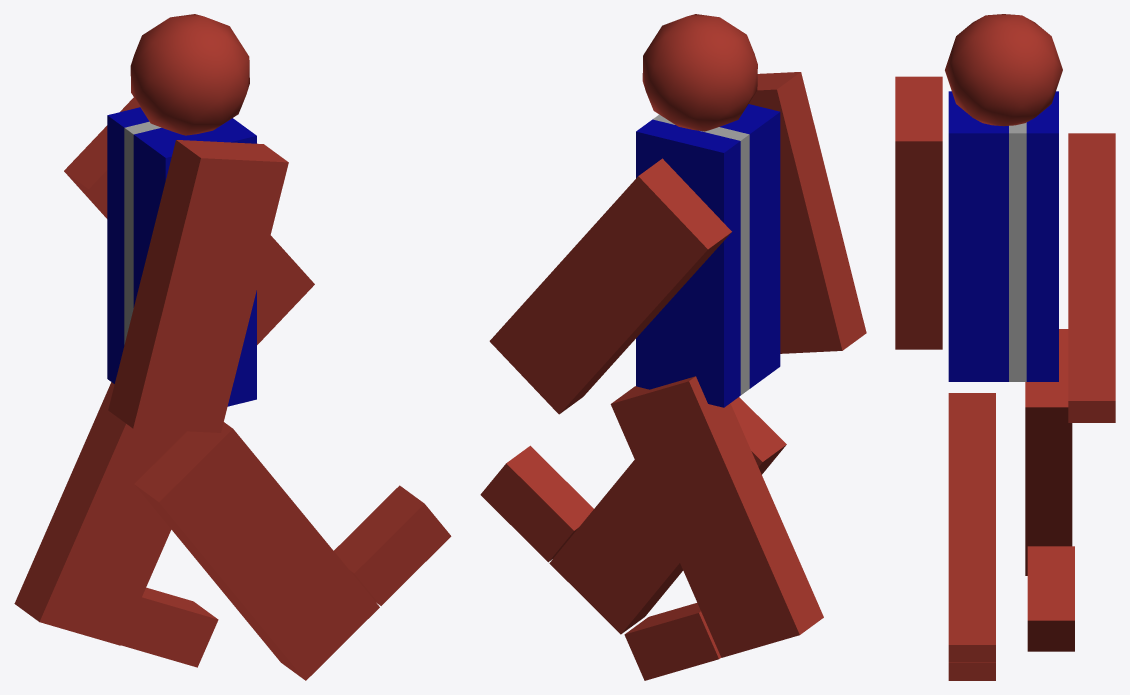
File: player_000024.obj
3 views of the same model, side by side, from view 1: azimuth 30°, elevation 25°; view 2: azimuth 150°, elevation 25°; view 3: azimuth 270°, elevation 25° (orthographic). The views are drawn at different scales.
Parts seen in each view (by area): view 1: Cube.005, Cube.001, Cube.002, Cube, Icosphere, Cube.003, Cube.006, Cube.004; view 2: Cube.002, Cube, Cube.006, Cube.005, Cube.001, Icosphere, Cube.003, Cube.004; view 3: Cube, Cube.006, Cube.005, Cube.001, Icosphere, Cube.002, Cube.004, Cube.003.
Part boxes in pixels (x1,y1,x2,y2): Cube.005: (108, 140, 288, 432); Cube.001: (134, 422, 379, 680); Cube.002: (14, 382, 186, 645); Cube: (107, 107, 256, 406); Icosphere: (130, 14, 249, 135); Cube.003: (334, 485, 451, 605); Cube.006: (64, 97, 314, 344); Cube.004: (121, 587, 218, 667); Cube.002: (610, 376, 823, 657); Cube: (636, 104, 780, 407); Cube.006: (489, 158, 731, 414); Cube.005: (749, 72, 866, 353); Cube.001: (549, 397, 786, 634); Icosphere: (642, 14, 757, 131); Cube.003: (480, 445, 593, 562); Cube.004: (624, 603, 720, 680); Cube: (948, 91, 1058, 381); Cube.006: (1068, 133, 1115, 422); Cube.005: (895, 76, 942, 349); Cube.001: (948, 393, 995, 680); Icosphere: (945, 14, 1062, 126); Cube.002: (1025, 329, 1072, 575); Cube.004: (1027, 546, 1074, 651); Cube.003: (948, 595, 995, 662).
Size of the model in its own units: 1.68 by 2.86 by 0.9137.
